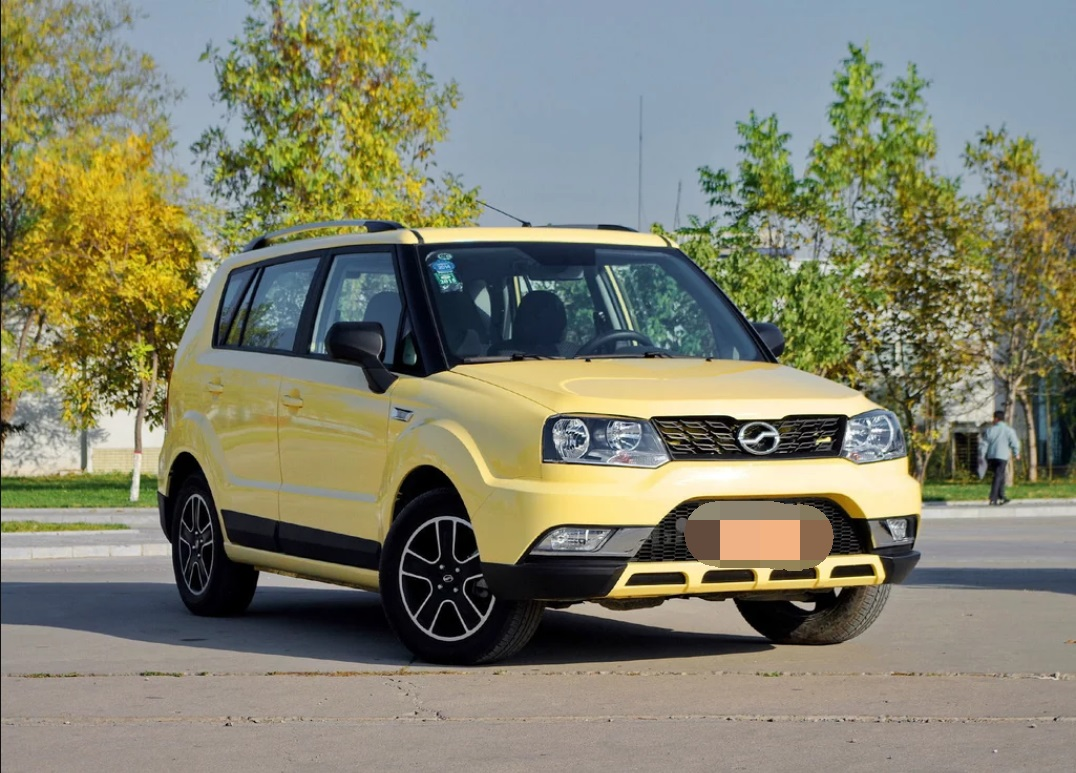SUV: (154, 213, 920, 663)
